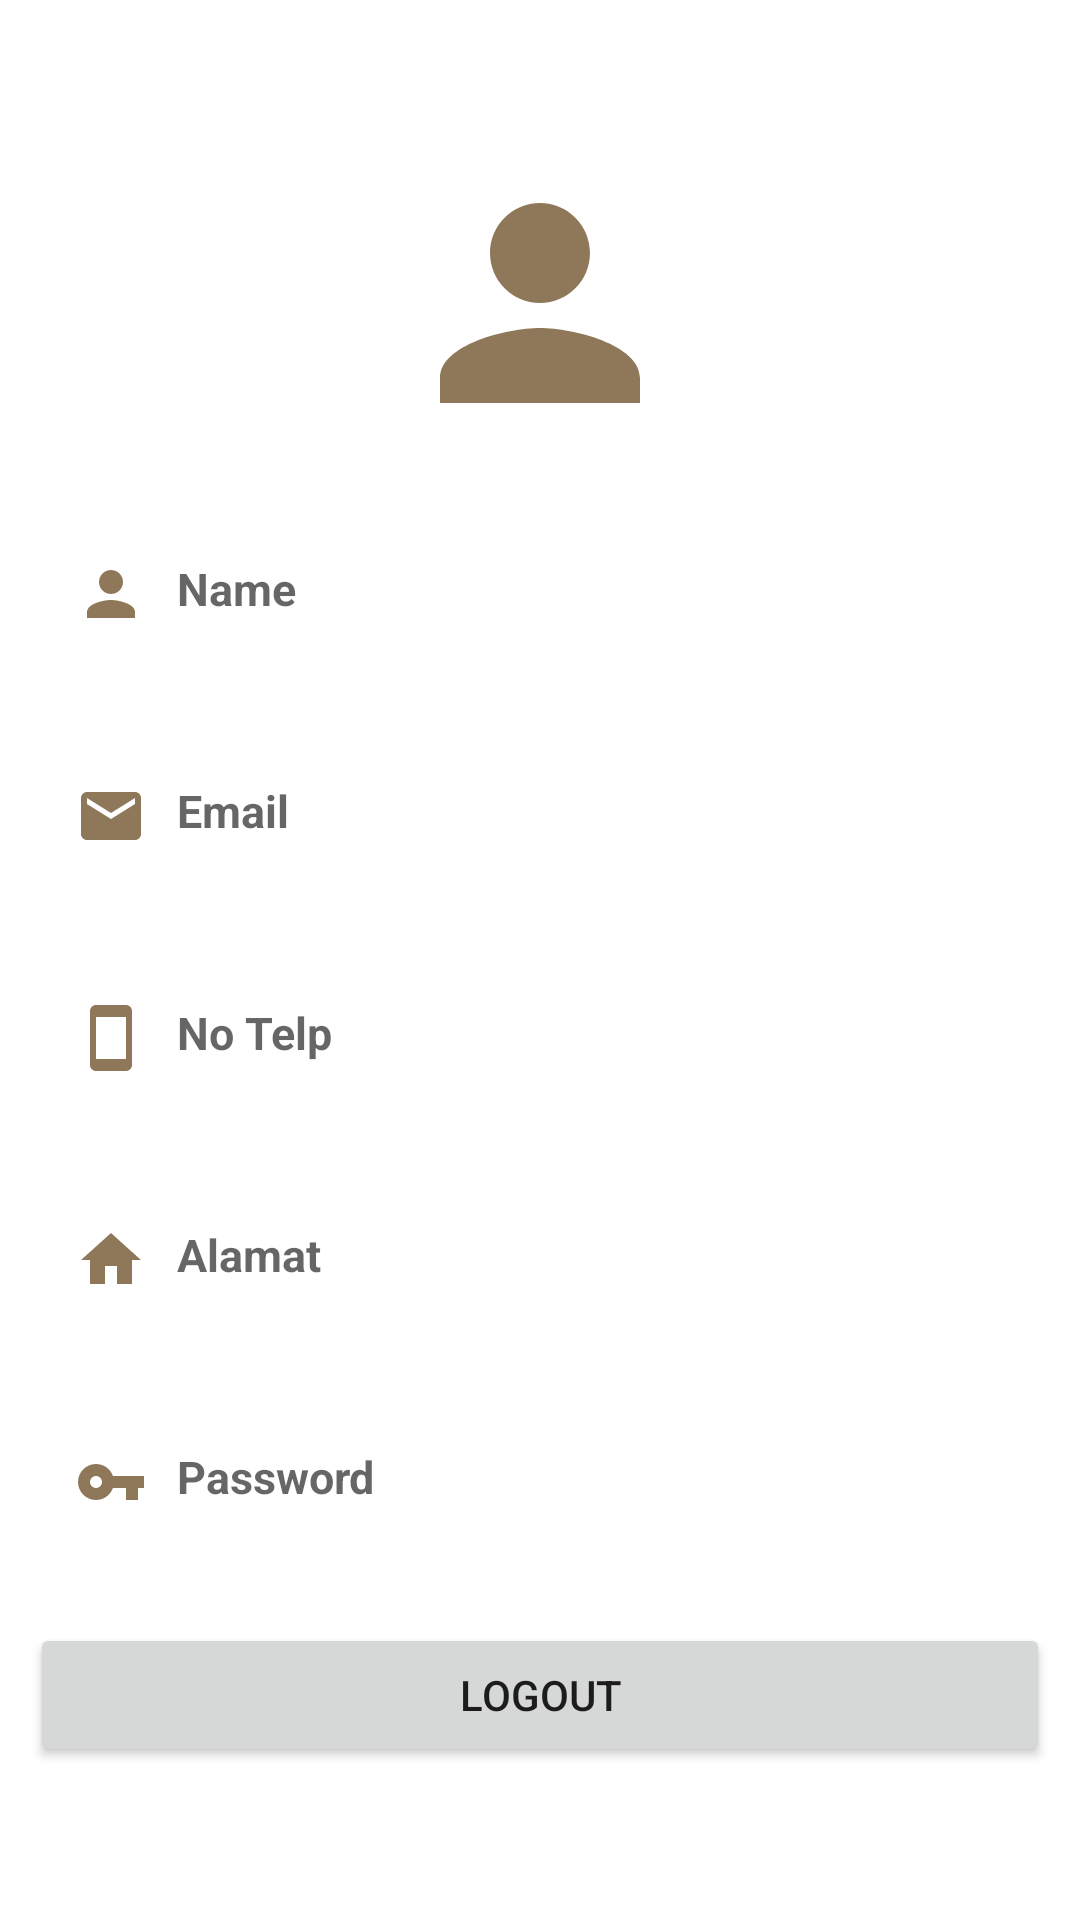

Icons on this 1080w x 1920h Android screen, each with the point to tap as (x,y):
person: (540,303)
